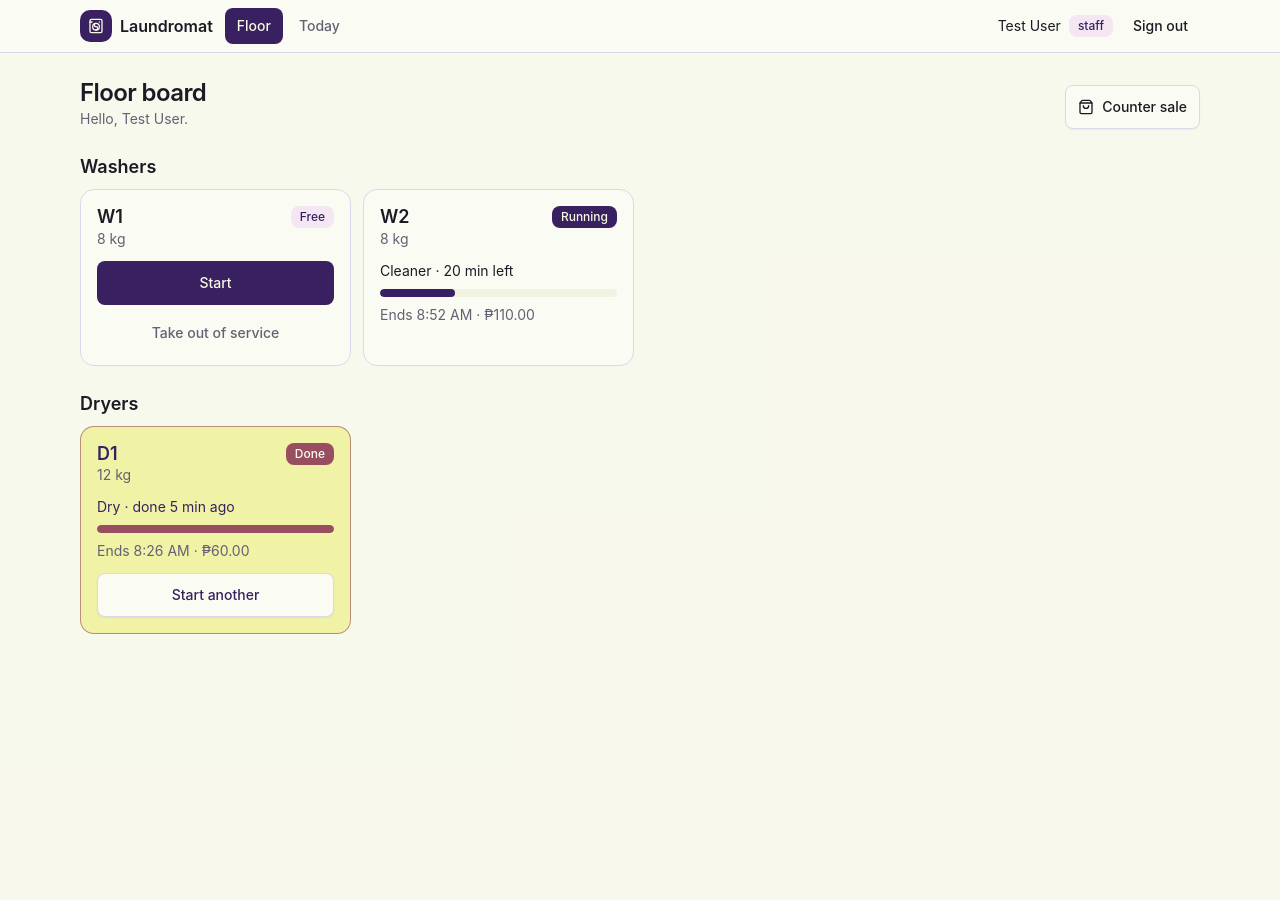
it: Floor board › opens the ticket for a running machine
The width and height of the screenshot is (1280, 900).
Click the button with aria-label "Open ticket on W2".
click(498, 292)  # box top-left (380, 260), bottom-right (617, 324)
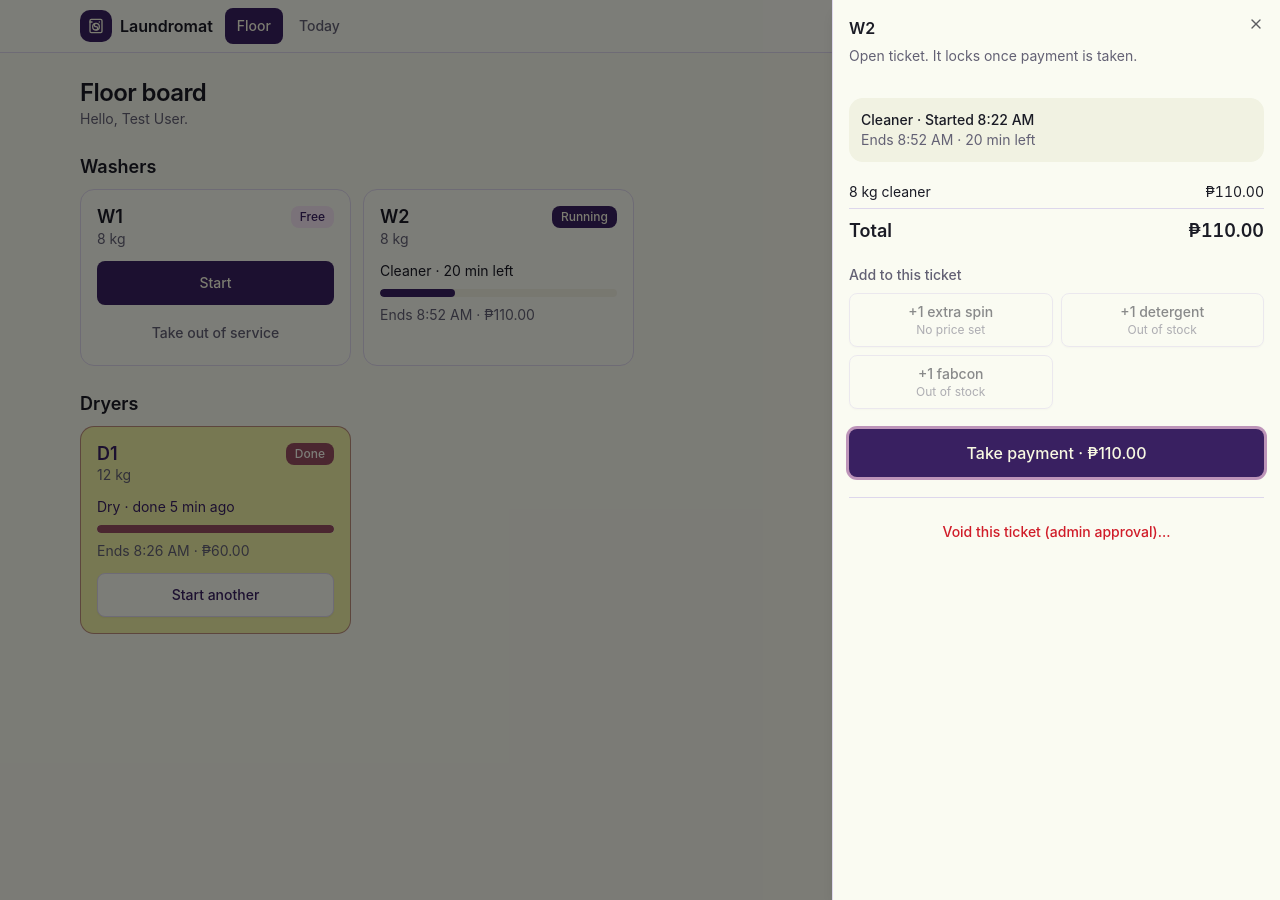
Now the button "Take payment · ₱110.00" is shown, box top-left (849, 429), bottom-right (1264, 477)
